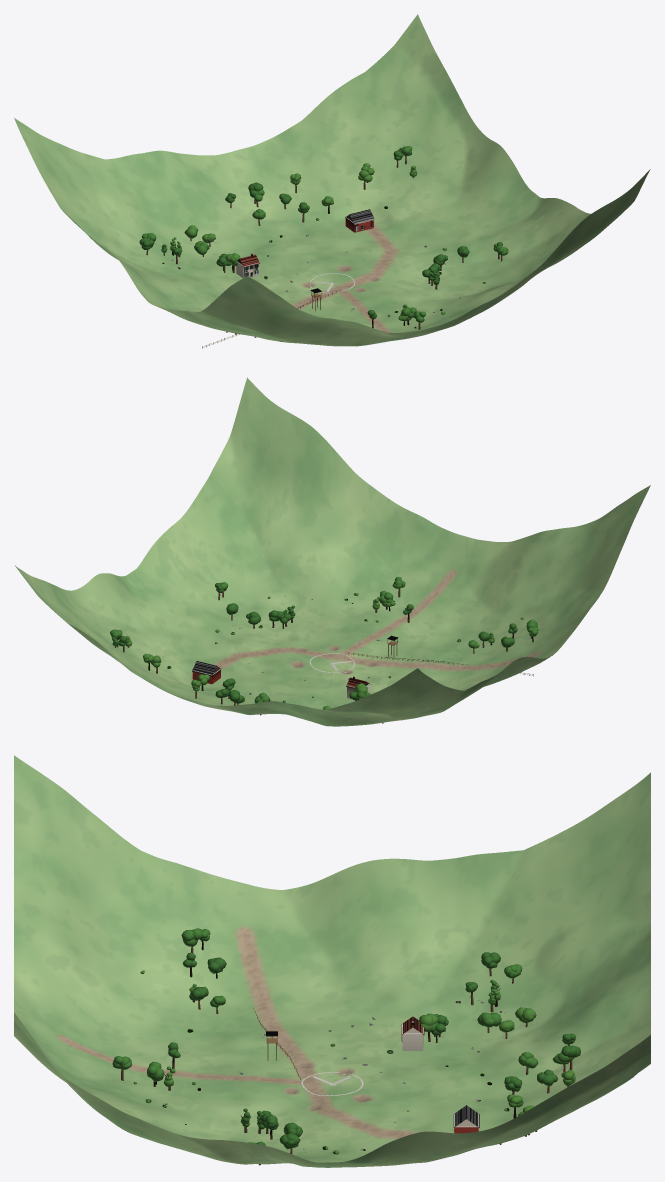
File: range.glb
3 renders of one model, top to bottom at view 1: azimuth 30°, elevation 25°; view 2: azimuth 150°, elevation 25°; view 3: azimuth 270°, elevation 25°, orthographic. The views are drawn at different scales.
Parts seen in each view (by area): view 1: range.terrain.0, range.leaf.30, range.leaf.28, range.leaf.29; view 2: range.terrain.0, range.leaf.30, range.leaf.28, range.leaf.29; view 3: range.terrain.0, range.leaf.30, range.leaf.29, range.leaf.28, range.bark.27.
Part boxes in pixels (box(x1,y1,x2,y2)): range.terrain.0: box(14, 14, 650, 346); range.leaf.30: box(139, 147, 502, 318); range.leaf.28: box(170, 163, 417, 321); range.leaf.29: box(141, 146, 508, 322); range.terrain.0: box(15, 377, 650, 726); range.leaf.30: box(112, 583, 517, 703); range.leaf.28: box(125, 596, 494, 709); range.leaf.29: box(110, 577, 538, 703); range.terrain.0: box(14, 755, 650, 1167); range.leaf.30: box(168, 952, 580, 1149); range.leaf.29: box(112, 928, 572, 1143); range.leaf.28: box(152, 984, 575, 1113); range.bark.27: box(121, 939, 574, 1165).
Size of the model in its own units: 190 by 68.84 by 190.
